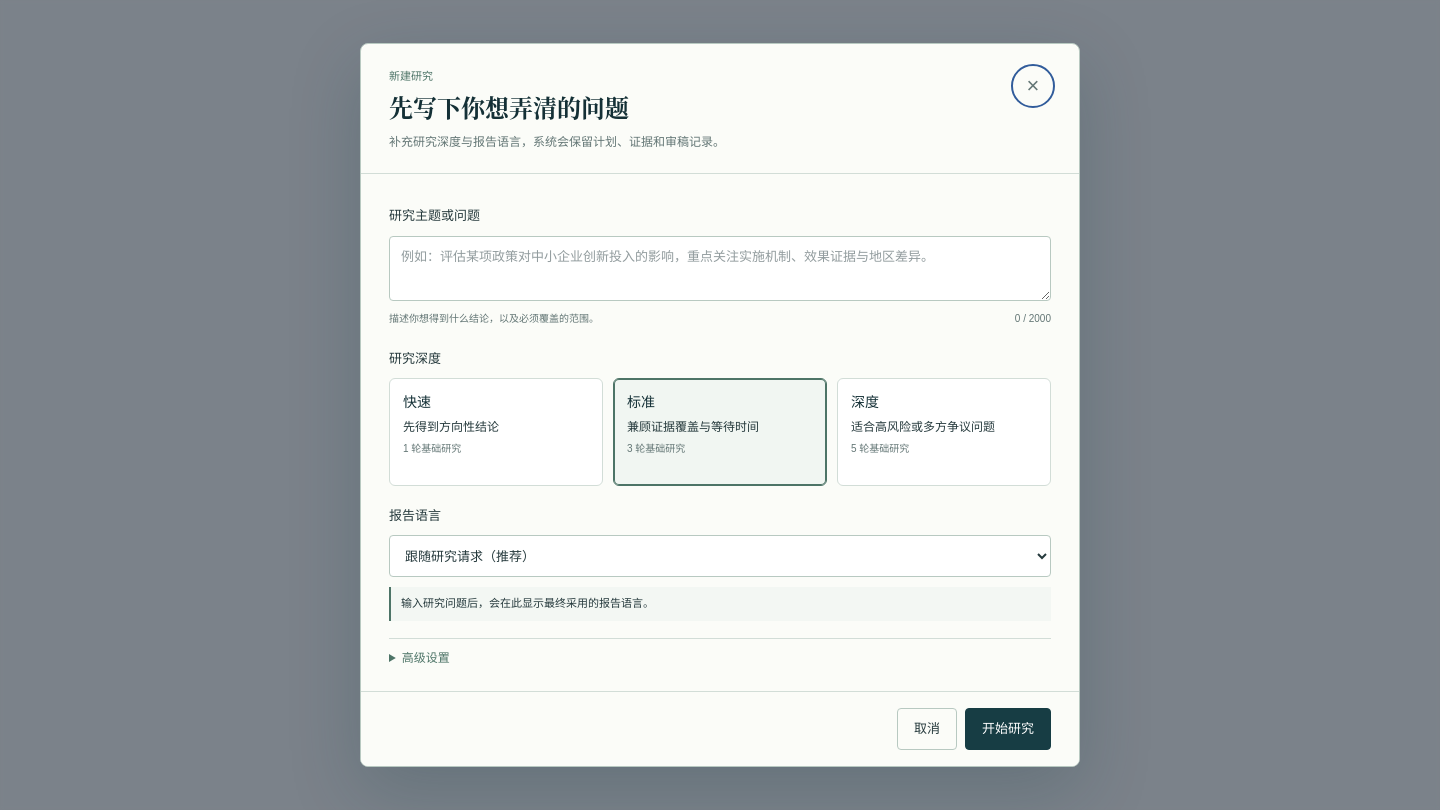
Test: create research request › explains presets and the final language before submission
Check: the number of radio buttons is 3, box 389,378 -> 603,486; 613,378 -> 827,486; 837,378 -> 1051,486
Step 1. Type "研究人工智能治理政策" into the text box with id "topic" → (720, 268), box 389,236 -> 1051,301
Wait 300 ms
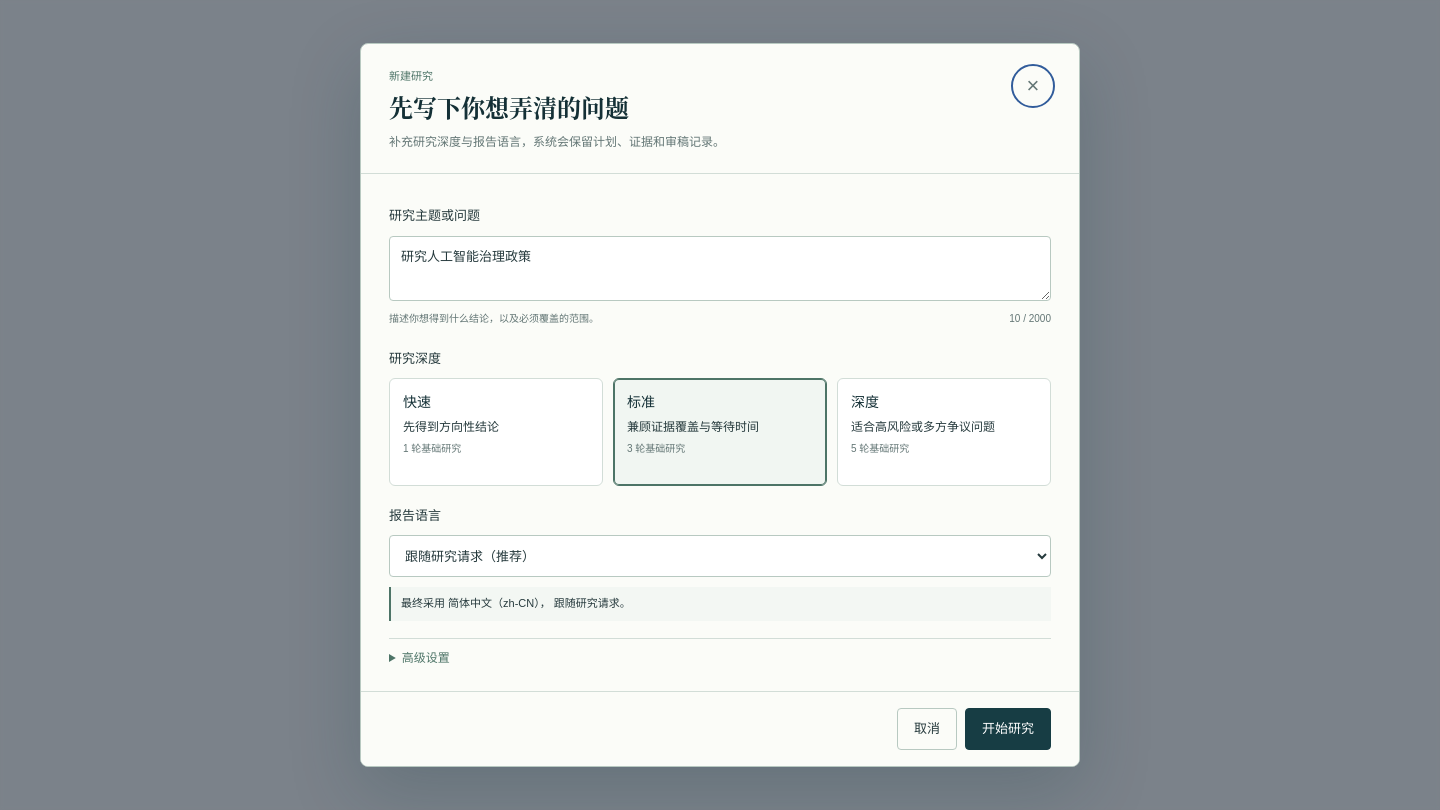
Check: the text "最终采用 简体中文（zh-CN）， 跟随研究请求。" is shown, box 389,587 -> 1051,621
